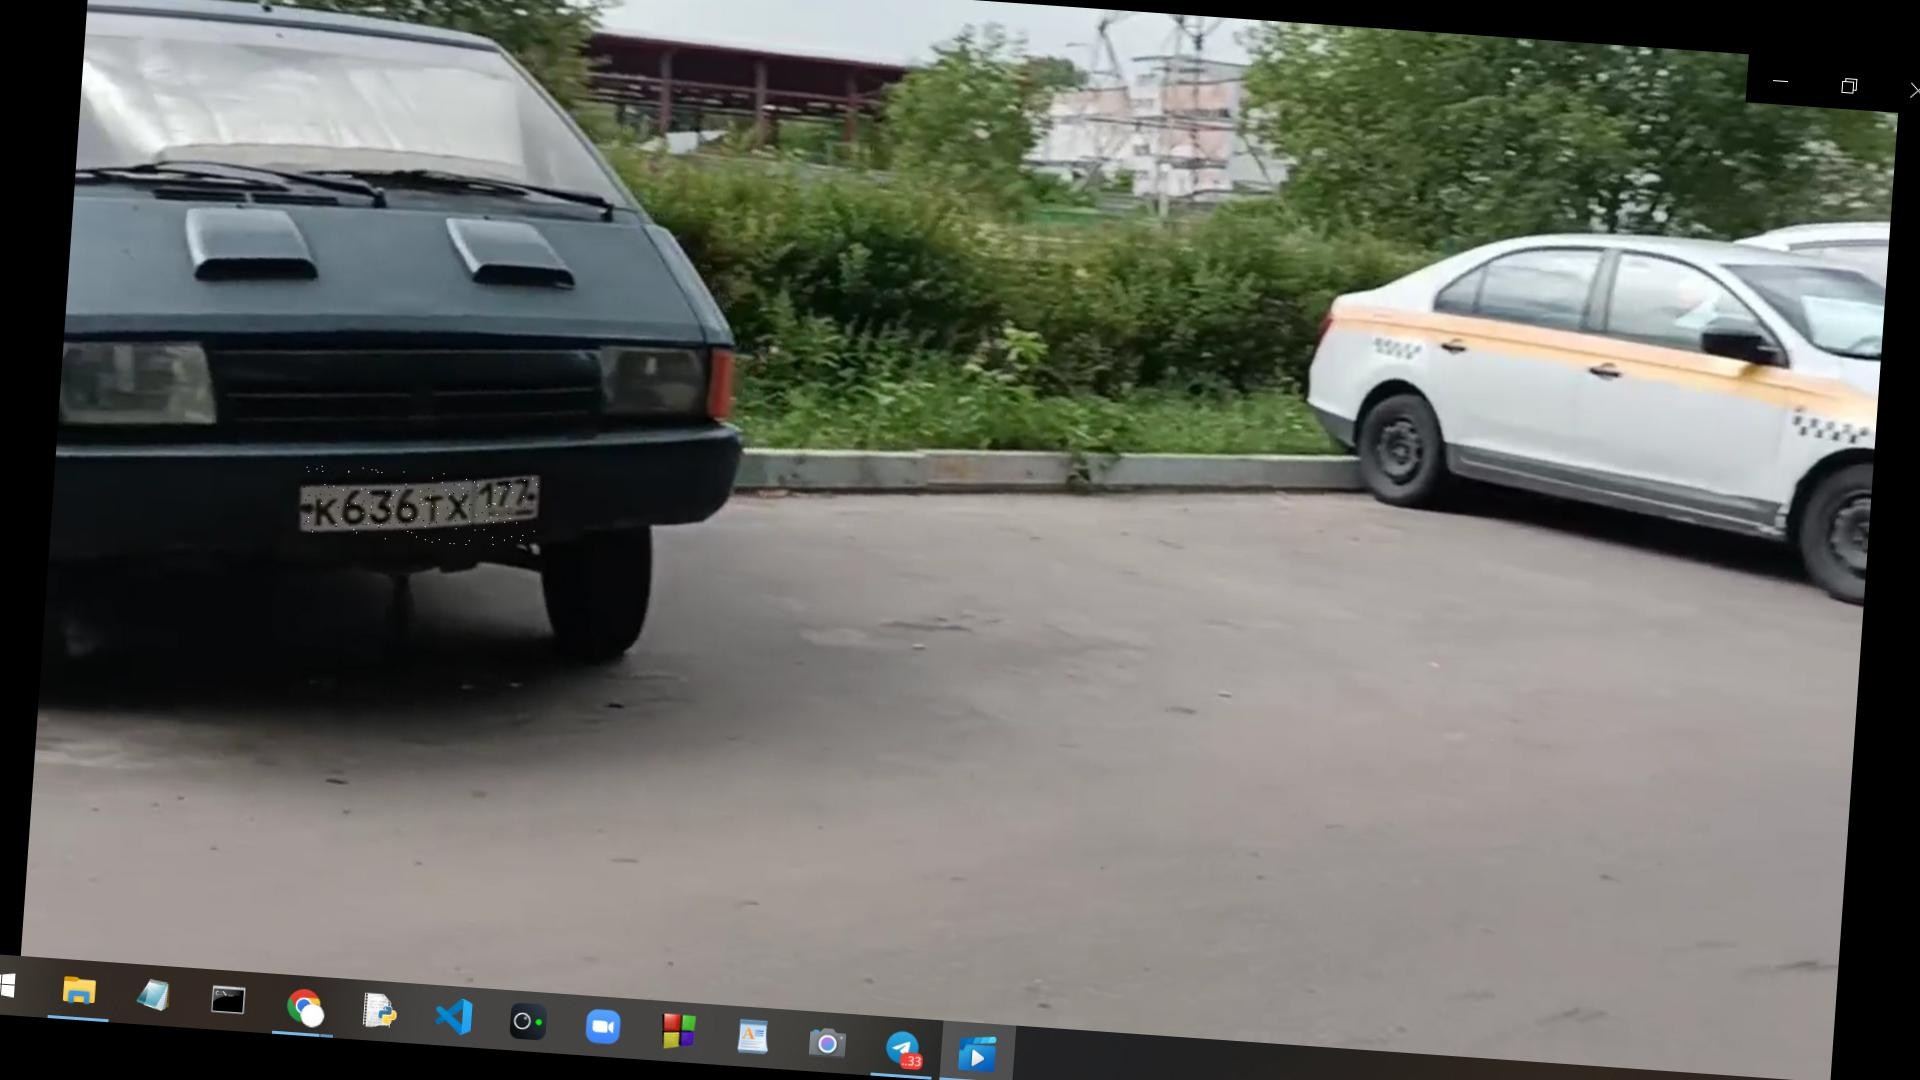plate: (302, 464, 541, 551)
